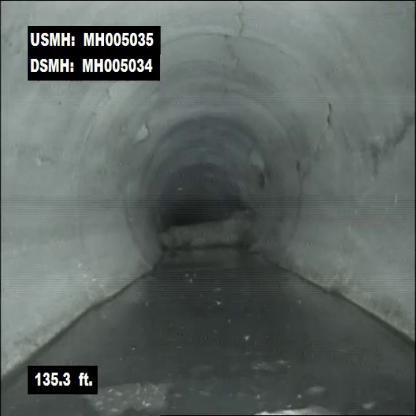crack: (356, 114, 416, 182), (310, 102, 336, 168), (228, 0, 257, 37)
